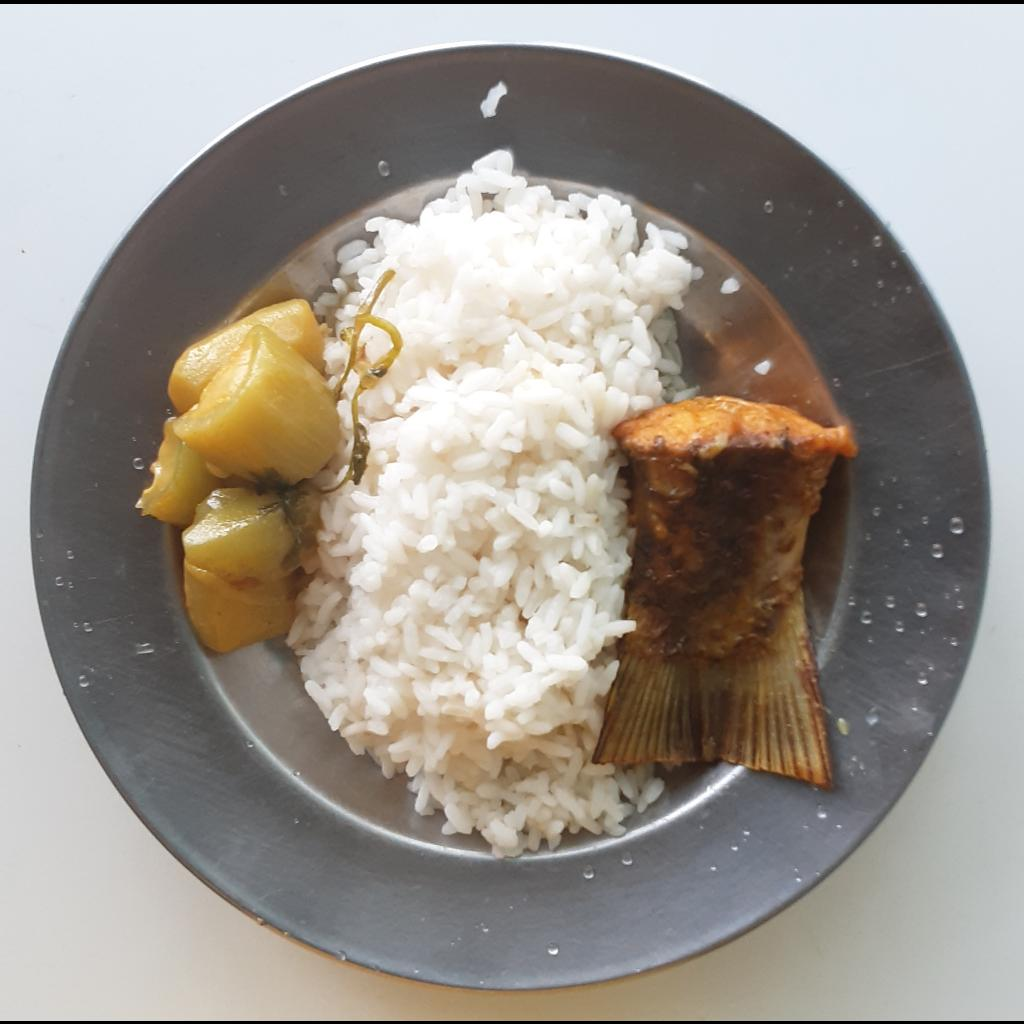fish: (600, 394, 855, 789)
potol: (141, 293, 349, 656)
rice: (279, 145, 715, 858)
